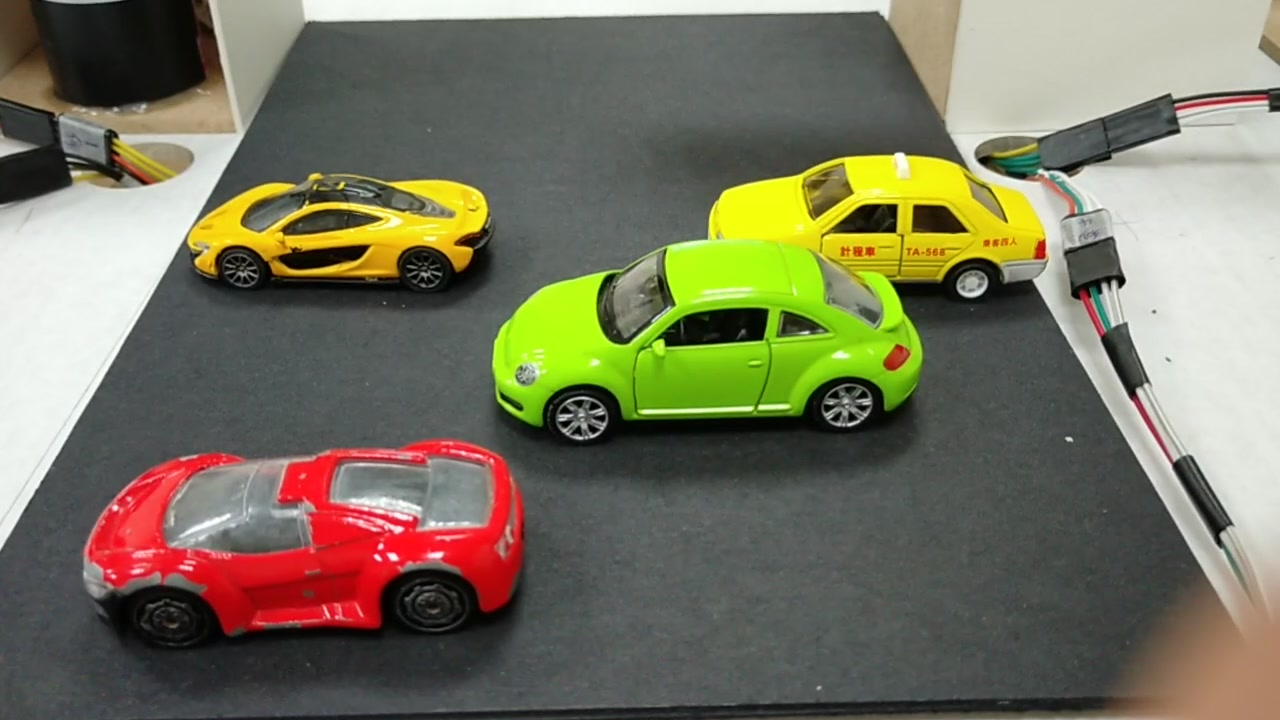car: (86, 442, 523, 635), (503, 238, 920, 431), (717, 143, 1042, 299), (195, 176, 491, 286)
